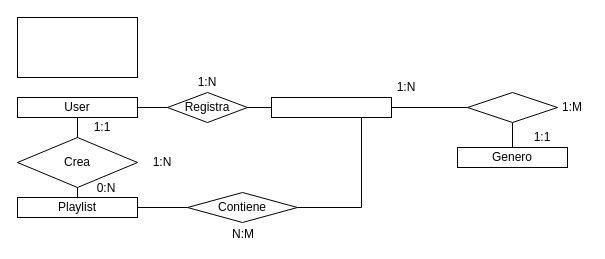
The diagram is 605 pixels wide and 259 high, and some of its shapes have lost their labels. Here are the shapes that lost their labels. From the top down, the box of each, then its label:
(16, 16, 138, 78): DER
(270, 96, 392, 118): Musica
(466, 92, 558, 122): Pertenece
